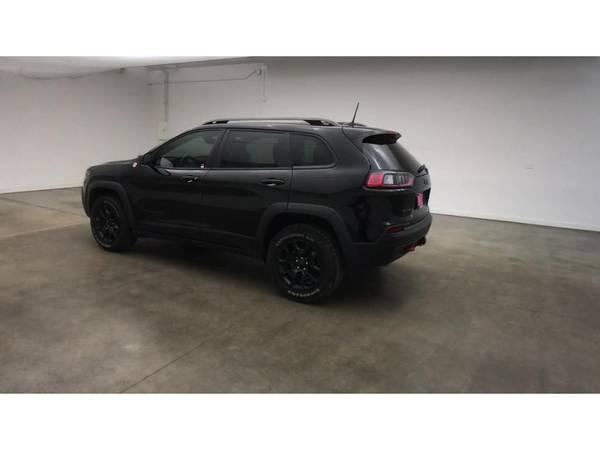Front_Fender: (77, 162, 139, 233)
Front_Left_Door: (133, 166, 208, 242)
Front_Left_Window: (137, 128, 228, 170)
Left_Taillight: (363, 170, 416, 188)
Rear_Bumper: (327, 185, 431, 264)
Rear_Fender: (288, 130, 369, 215)
Rear_Left_Door: (200, 168, 293, 254)
Rear_Left_Window: (210, 130, 292, 170)
Rear_Windshield: (357, 135, 426, 173)
Roof: (138, 116, 401, 164)
Tailgate: (397, 172, 432, 225)
Wheel: (270, 225, 344, 300), (90, 193, 137, 249)
